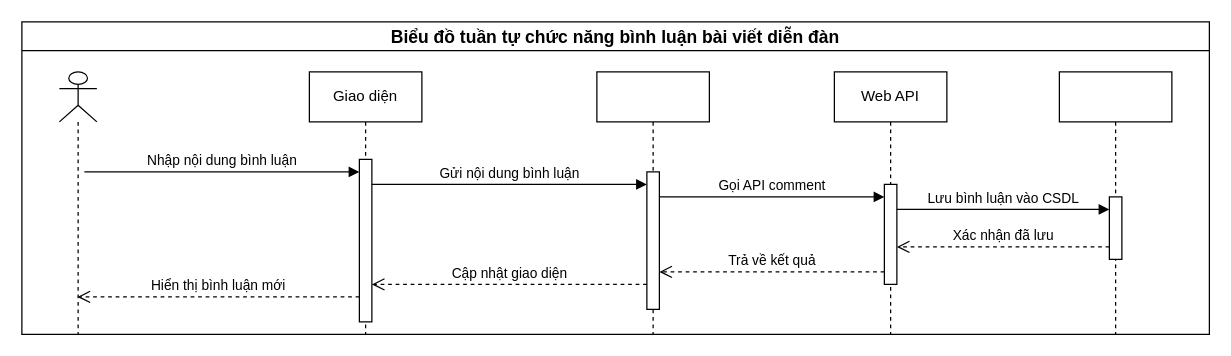
This 1231x356 diagram has some shape labels left out. Each missing label, with the centre of its shape:
MySQL: pixel 1115 202
Web Client: pixel 652 202
